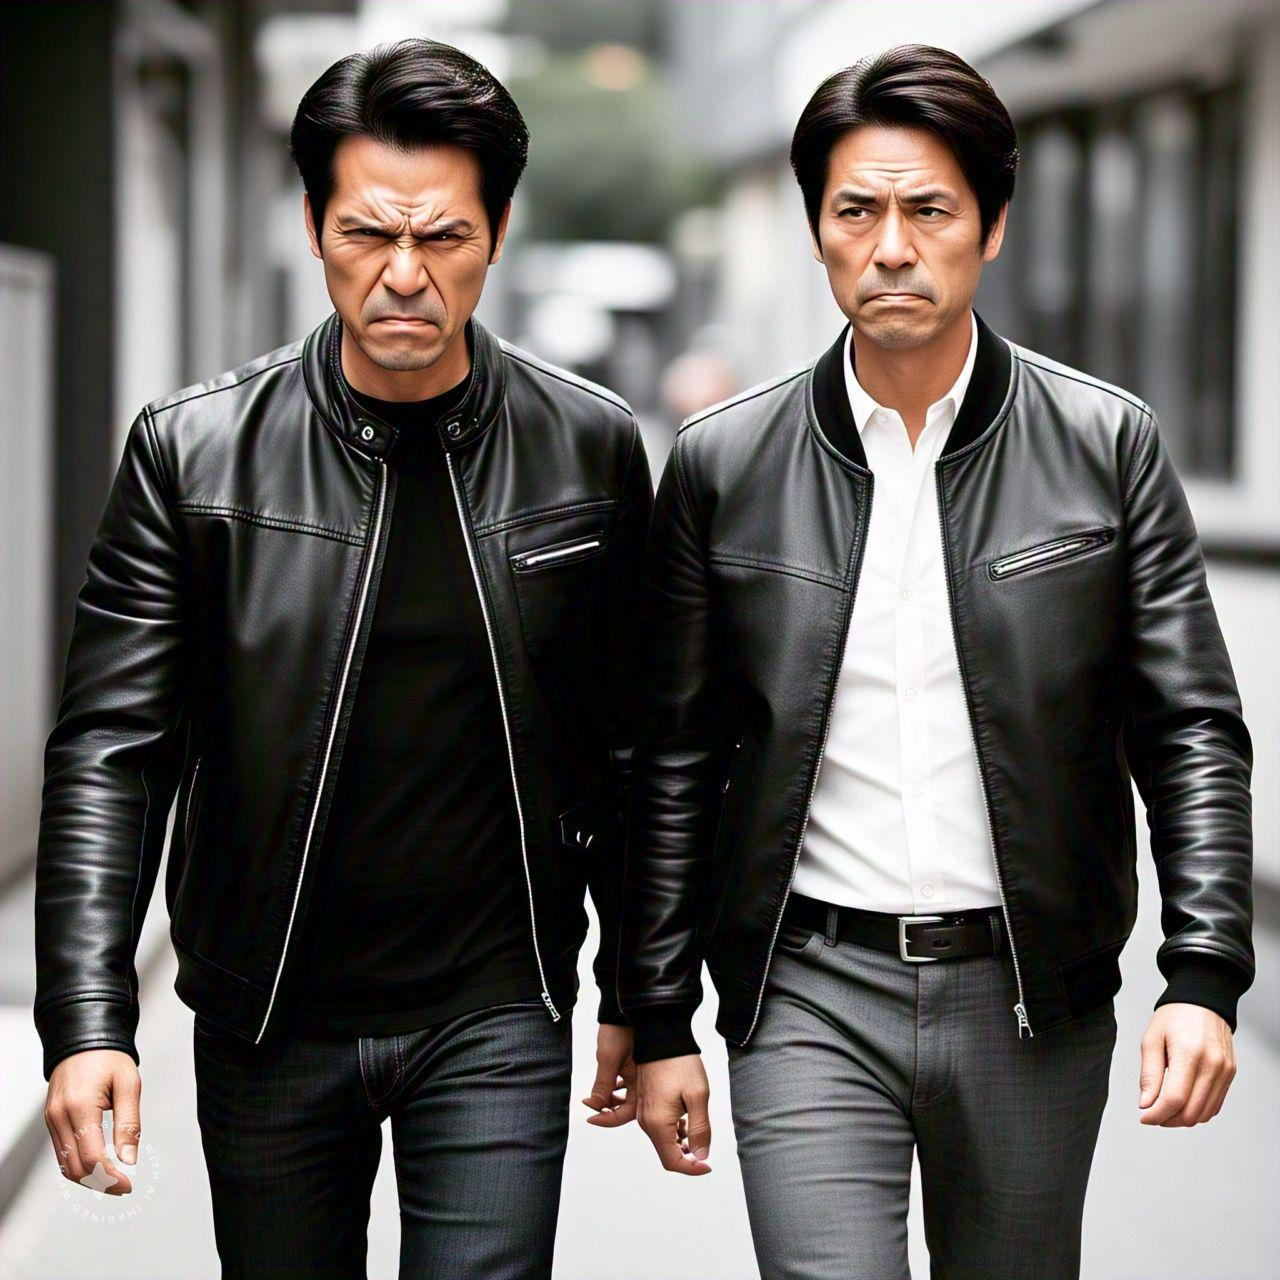normal: (805, 98, 1006, 350)
raiva: (306, 98, 525, 379)
